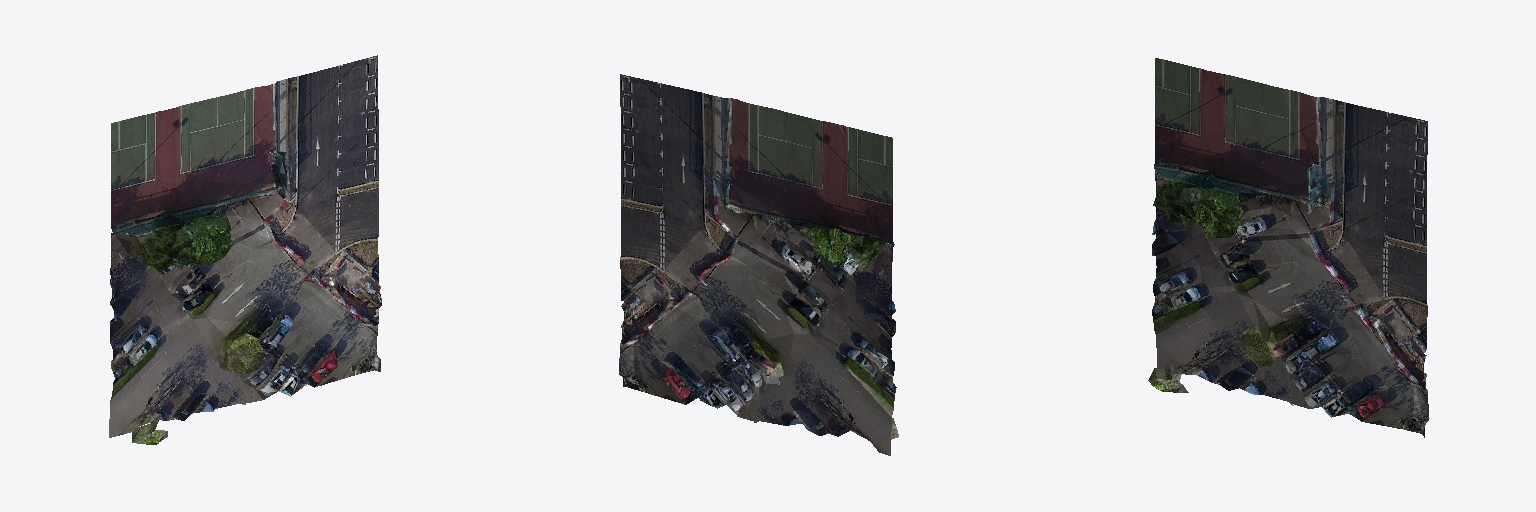
3 views of the same model, side by side, from view 1: azimuth 30°, elevation 25°; view 2: azimuth 150°, elevation 25°; view 3: azimuth 330°, elevation 25° (orthographic).
Visible parts, largest first — view 1: obj_0; view 2: obj_0; view 3: obj_0.
Part boxes in pixels (x1,y1,x2,y2): obj_0: (109,55,381,444); obj_0: (619,74,898,455); obj_0: (1148,58,1428,437).
Bounding box in the file's own units: 40.15 × 45.05 × 7.21.
Materials: 1 (1 with a texture image).